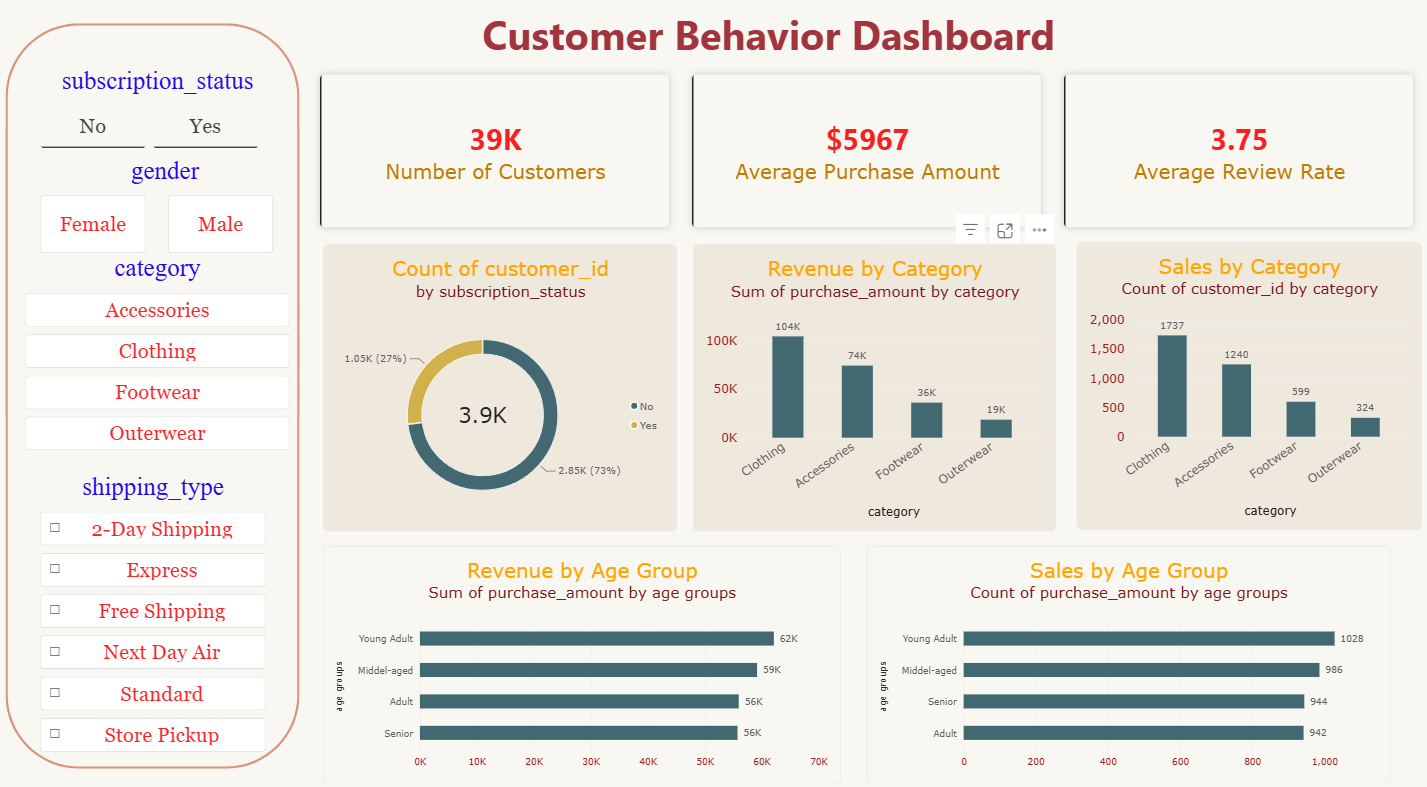

The page's visual inventory and layout, read from the dashboard file:
{"tool":"powerbi","page":{"name":"Page 1","canvas":[1920,1080],"ordinal":0},"visuals":[{"type":"textbox","box":[10,20,1887.5,77.5],"z":0},{"type":"cardVisual","fields":{"Data":["customer_behavior_trends.number of customers","customer_behavior_trends.average purchase amount","customer_behavior_trends.average review rate"]},"box":[417.5,97.5,1480,227.5],"z":1000},{"type":"shape","box":[10,42,392,994],"z":2000},{"type":"advancedSlicerVisual","fields":{"Values":["customer_behavior_trends.subscription_status"]},"box":[36,98,352.5,110],"z":3000},{"type":"advancedSlicerVisual","fields":{"Values":["customer_behavior_trends.gender"]},"box":[56,218,332,130],"z":4000},{"type":"advancedSlicerVisual","fields":{"Values":["customer_behavior_trends.category"]},"box":[36,348,352,266],"z":5000},{"type":"advancedSlicerVisual","fields":{"Values":["customer_behavior_trends.shipping_type"]},"box":[56,640,300,396],"z":6000},{"type":"donutChart","fields":{"Category":["customer_behavior_trends.subscription_status"],"Y":["CountNonNull(customer_behavior_trends.customer_id)"]},"box":[434,336,472,382],"z":7000},{"type":"clusteredColumnChart","title":"Revenue by Category","fields":{"Category":["customer_behavior_trends.category"],"Y":["Sum(customer_behavior_trends.purchase_amount_(usd))"]},"box":[926,336,484,382],"z":8000},{"type":"clusteredColumnChart","title":"Sales by Category","fields":{"Category":["customer_behavior_trends.category"],"Y":["CountNonNull(customer_behavior_trends.customer_id)"]},"box":[1438,334,460,384],"z":9000},{"type":"clusteredBarChart","title":"Revenue by Age Group ","fields":{"Category":["customer_behavior_trends.age groups"],"Y":["Sum(customer_behavior_trends.purchase_amount_(usd))"]},"box":[434,738,690,318],"z":10000},{"type":"clusteredBarChart","title":"Sales by Age Group ","fields":{"Category":["customer_behavior_trends.age groups"],"Y":["CountNonNull(customer_behavior_trends.purchase_amount_(usd))"]},"box":[1158,738,698,318],"z":11000}]}

Visuals, with their boxes in screenshot pixels (x1, y1, x2, y2), scaled from the page's 1920x1080 canvas onto the 1427x787 screenshot:
textbox: Rect(7, 15, 1410, 71)
cardVisual - customer_behavior_trends.number of customers x customer_behavior_trends.average purchase amount: Rect(310, 71, 1410, 237)
shape: Rect(7, 31, 299, 755)
advancedSlicerVisual - customer_behavior_trends.subscription_status: Rect(27, 71, 289, 152)
advancedSlicerVisual - customer_behavior_trends.gender: Rect(42, 159, 288, 254)
advancedSlicerVisual - customer_behavior_trends.category: Rect(27, 254, 288, 447)
advancedSlicerVisual - customer_behavior_trends.shipping_type: Rect(42, 466, 265, 755)
donutChart - customer_behavior_trends.subscription_status x CountNonNull(customer_behavior_trends.customer_id): Rect(323, 245, 673, 523)
"Revenue by Category" clusteredColumnChart: Rect(688, 245, 1048, 523)
"Sales by Category" clusteredColumnChart: Rect(1069, 243, 1411, 523)
"Revenue by Age Group " clusteredBarChart: Rect(323, 538, 835, 770)
"Sales by Age Group " clusteredBarChart: Rect(861, 538, 1379, 770)
